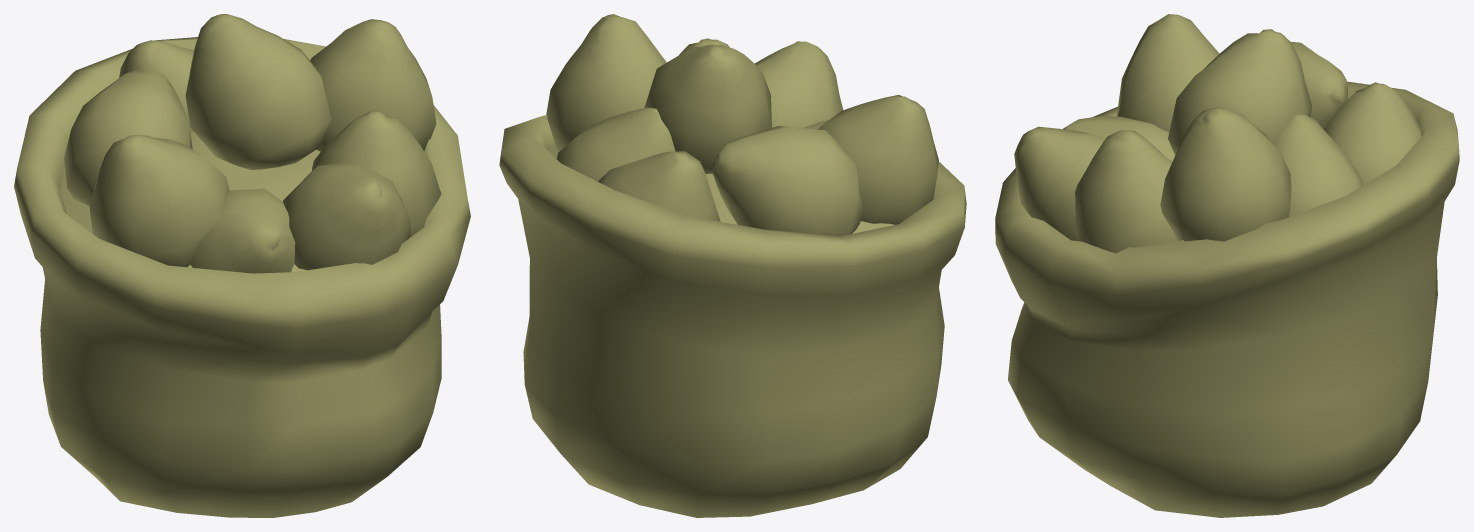
Rendered from Bag_Open_02_Lod0.fbx.
The picture shows the model from 3 angles, left to right: view 1: azimuth 30°, elevation 25°; view 2: azimuth 150°, elevation 25°; view 3: azimuth 270°, elevation 25°; orthographic projection.
Visible parts, largest first — view 1: Bag_Open_02_Lod0; view 2: Bag_Open_02_Lod0; view 3: Bag_Open_02_Lod0.
Part boxes in pixels (box(x1,y1,x2,y2)): Bag_Open_02_Lod0: box(14, 14, 470, 517); Bag_Open_02_Lod0: box(499, 14, 966, 517); Bag_Open_02_Lod0: box(995, 14, 1459, 517).
Size of the model in its own units: 50.07 by 51 by 50.45.
